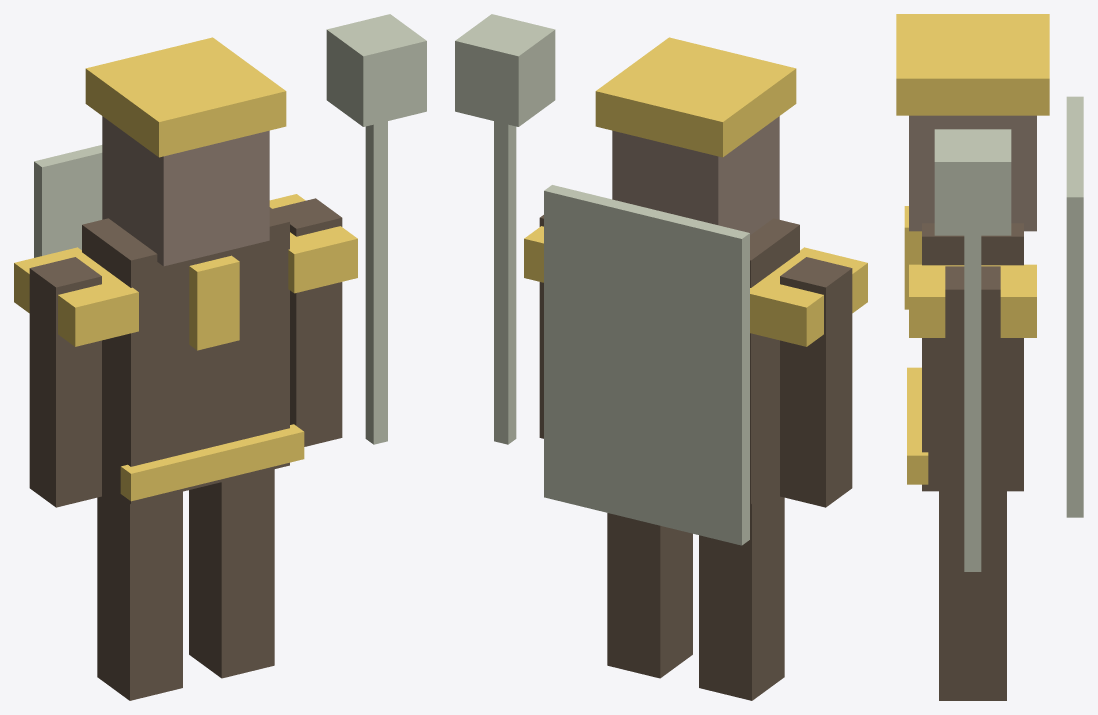
The model's file is 16_vela_echohand_scout_from_bazaar.glb.
3 renders of one model, left to right at view 1: azimuth 30°, elevation 25°; view 2: azimuth 150°, elevation 25°; view 3: azimuth 270°, elevation 25°, orthographic. The views are drawn at different scales.
Visible parts, largest first — view 1: Vela Echohand, Scout from Bazaar; view 2: Vela Echohand, Scout from Bazaar; view 3: Vela Echohand, Scout from Bazaar.
Part boxes in pixels (left/top/right/bottom): Vela Echohand, Scout from Bazaar: left=14, top=14, right=426, bottom=700; Vela Echohand, Scout from Bazaar: left=455, top=14, right=867, bottom=700; Vela Echohand, Scout from Bazaar: left=896, top=14, right=1083, bottom=700.
Bounding box in the file's own units: 1.02 × 1.58 × 0.4333.
